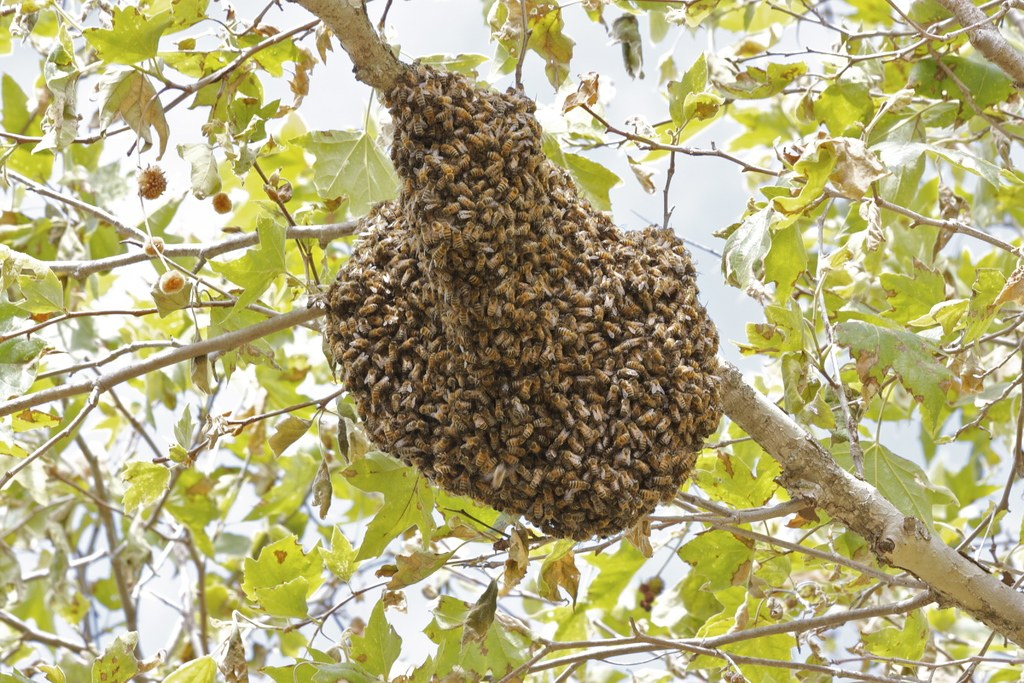bee: (307, 60, 732, 540), (312, 56, 723, 548), (524, 419, 536, 440)
insect: (0, 0, 1023, 682), (323, 65, 723, 537)
